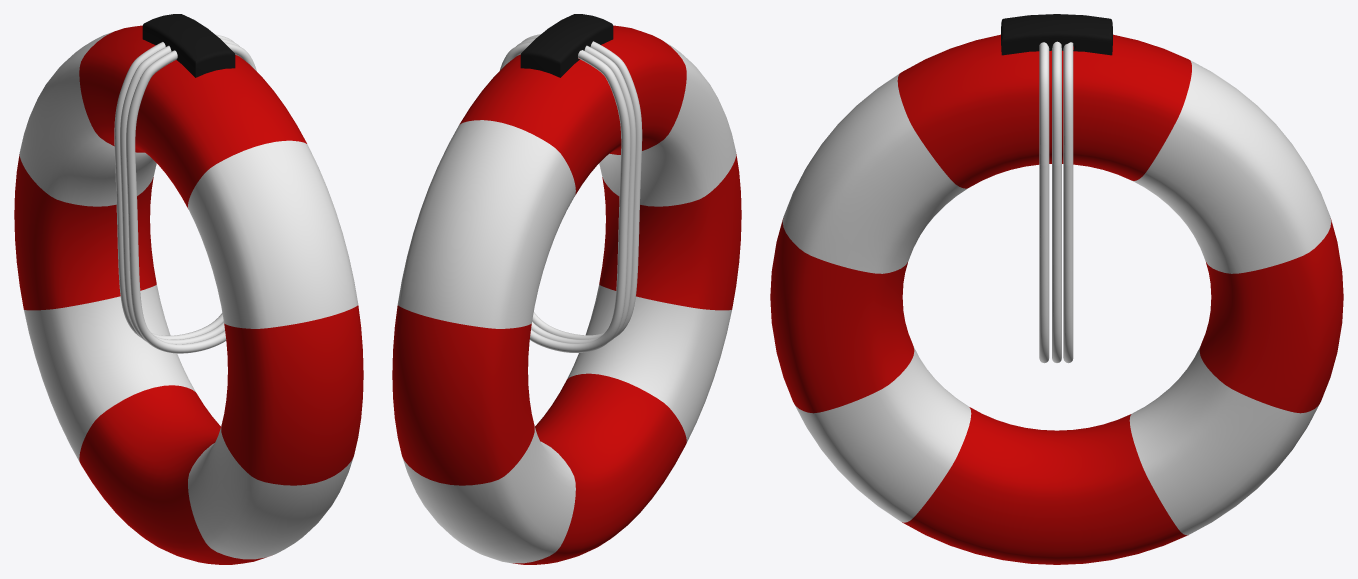
Rendered from low_poly_ocean_buoy.glb.
3 renders of one model, left to right at view 1: azimuth 30°, elevation 25°; view 2: azimuth 150°, elevation 25°; view 3: azimuth 270°, elevation 25°, orthographic. The views are drawn at different scales.
Parts seen in each view (by area): view 1: Circle, NurbsPath.002, NurbsPath, NurbsPath.001; view 2: Circle, NurbsPath.001, NurbsPath.002, NurbsPath; view 3: Circle, NurbsPath.002, NurbsPath.001, NurbsPath.
Boxes of the visible parts, x1,y1,x2,y2 form: Circle: (14,14,363,564); NurbsPath.002: (126,42,256,353); NurbsPath: (120,38,239,344); NurbsPath.001: (114,34,234,339); Circle: (392,14,741,564); NurbsPath.001: (499,42,630,352); NurbsPath.002: (521,34,642,339); NurbsPath: (516,38,635,343); Circle: (770,14,1343,564); NurbsPath.002: (1039,42,1049,363); NurbsPath.001: (1063,42,1073,363); NurbsPath: (1052,41,1061,362).
Size of the model in its own units: 0.2278 by 0.8304 by 0.8041.
